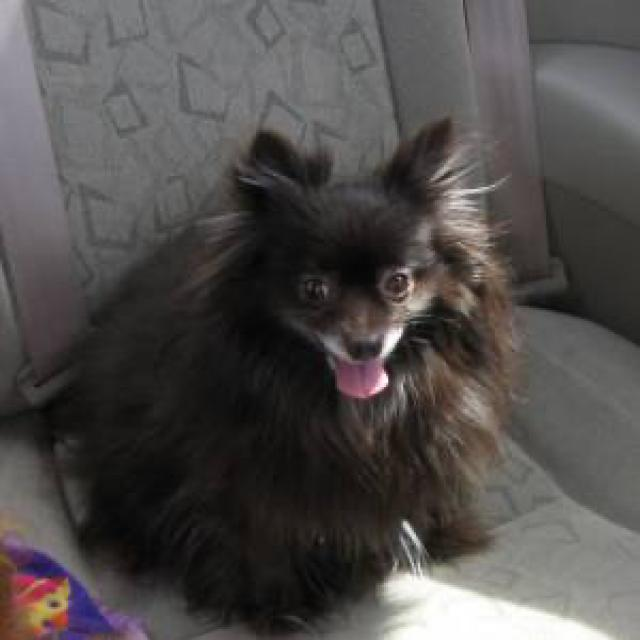dog: (241, 112, 450, 394)
